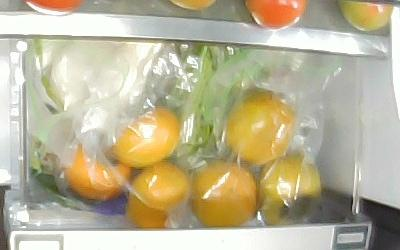persimmon_vinyl: (101, 100, 180, 168), (226, 94, 296, 163), (190, 162, 259, 224), (124, 164, 190, 227), (257, 158, 322, 221)
